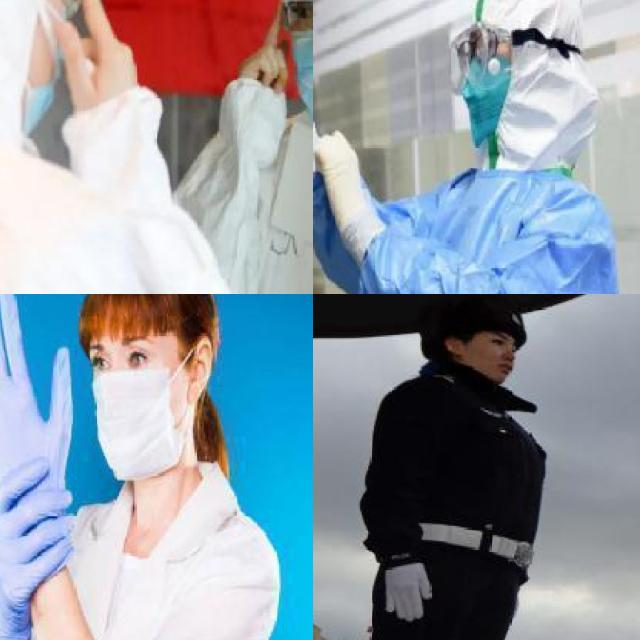face_mask: (313, 0, 618, 294), (90, 332, 184, 483), (451, 18, 522, 133), (288, 0, 313, 134)
face_nomask: (452, 326, 528, 390)
glasses: (449, 21, 510, 84), (274, 0, 313, 45)
hand_glove: (0, 294, 76, 487), (0, 455, 76, 640), (313, 131, 370, 225), (380, 561, 433, 623)
hand_noglove: (57, 0, 142, 114), (237, 0, 296, 100)
head_nohelmet: (63, 294, 203, 339), (435, 294, 535, 343)
person: (0, 294, 289, 640), (365, 294, 545, 640)
